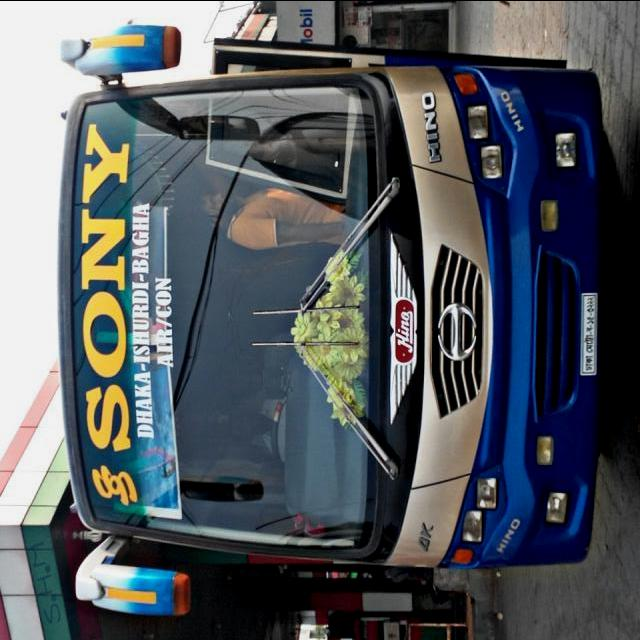bus: (57, 21, 610, 620)
